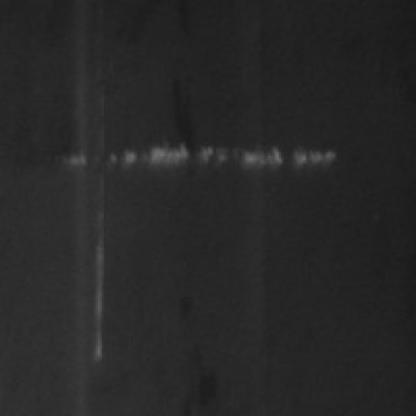scratches: (85, 152, 121, 370), (64, 142, 341, 168)
